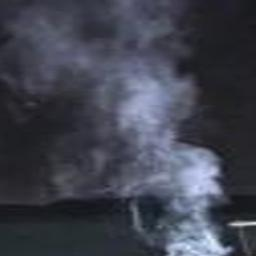smoke: (0, 0, 232, 255)
